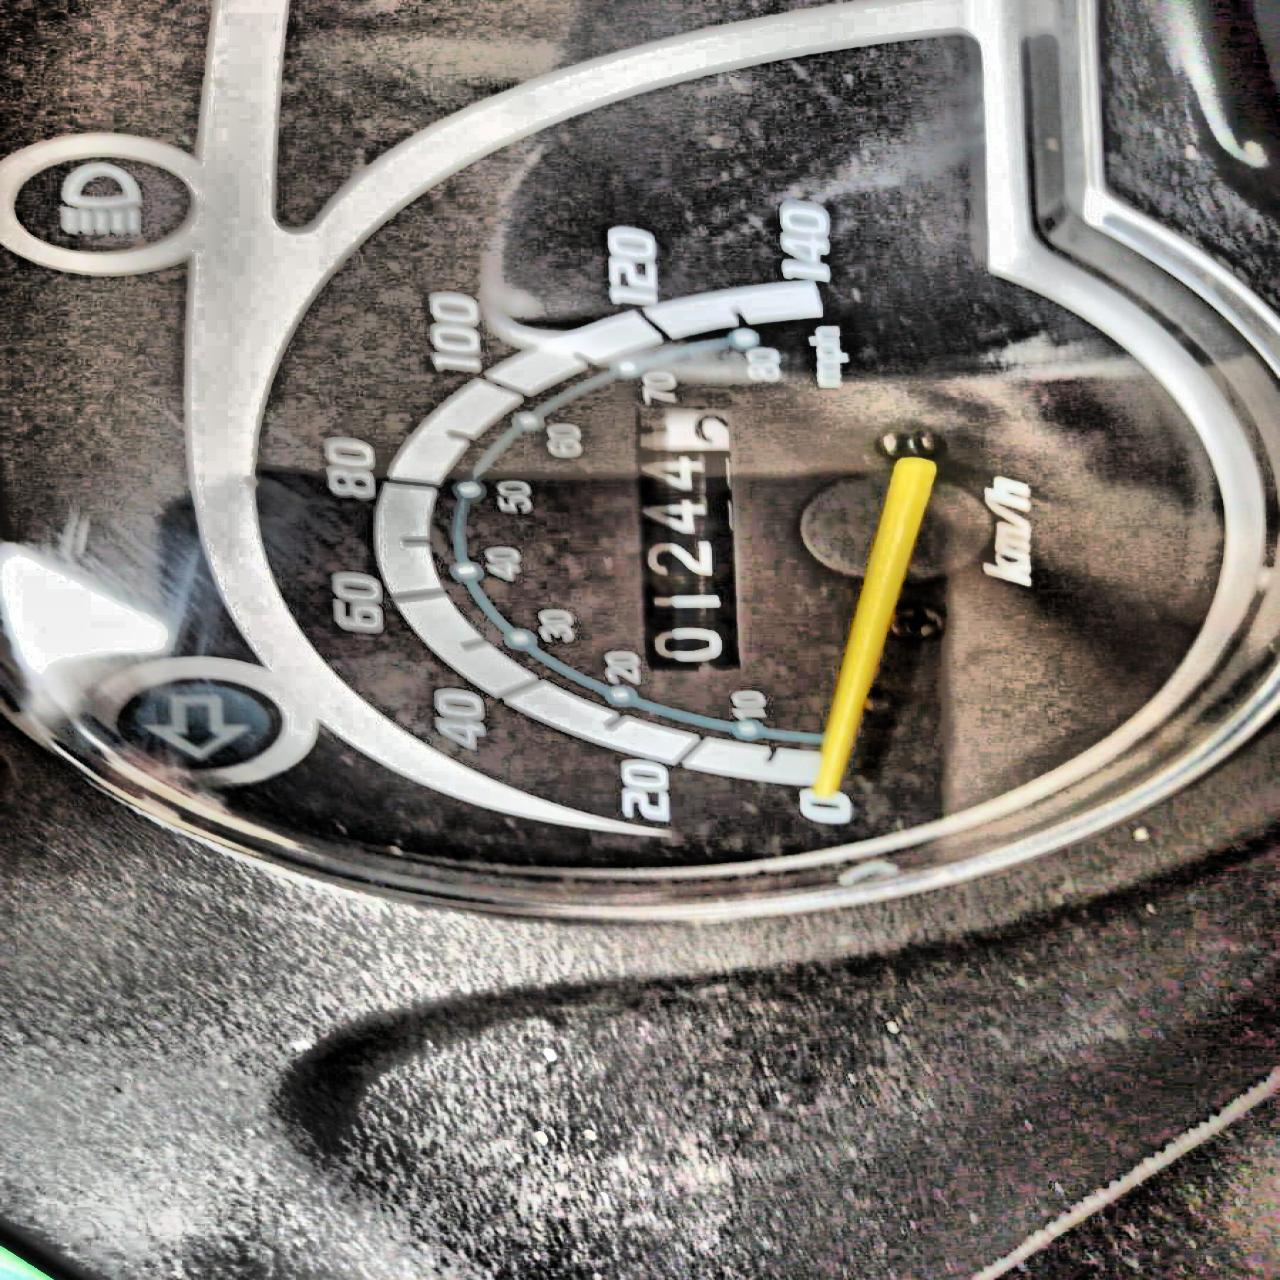0: (647, 622, 730, 661)
1: (641, 587, 747, 614)
2: (641, 538, 730, 579), (675, 408, 757, 451)
4: (631, 454, 713, 490), (632, 496, 716, 531)
odometer: (628, 399, 762, 667)
